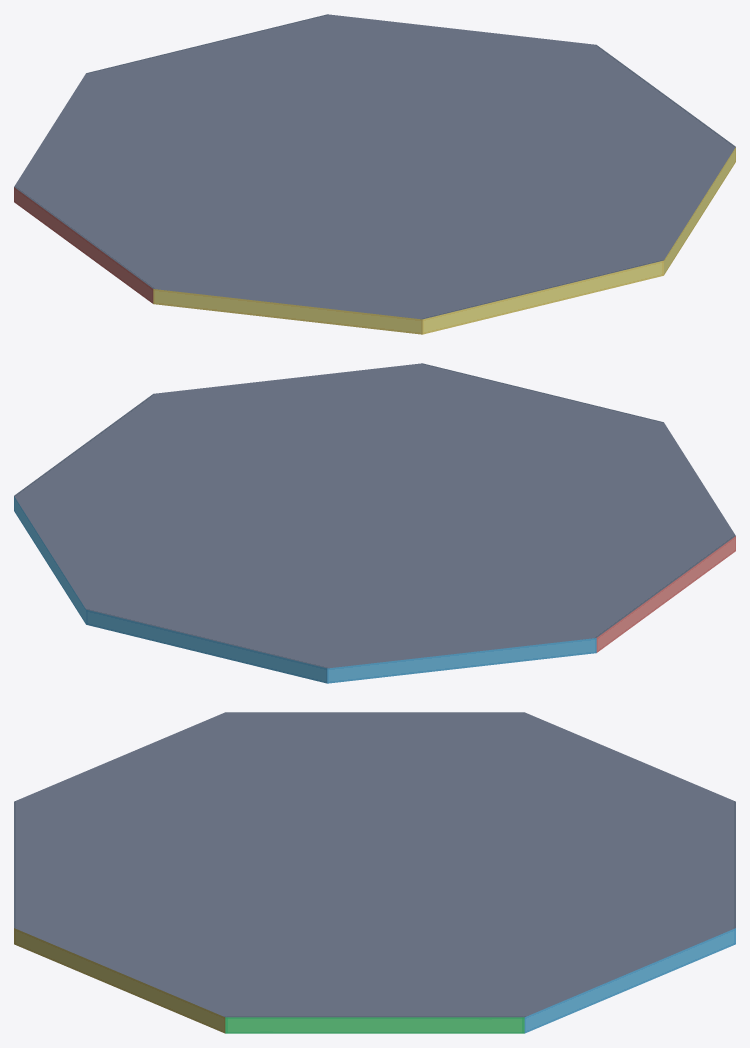
The model's file is bunkerFloor.gltf.
3 renders of one model, top to bottom at view 1: azimuth 30°, elevation 25°; view 2: azimuth 150°, elevation 25°; view 3: azimuth 270°, elevation 25°, orthographic. The views are drawn at different scales.
Parts seen in each view (by area): view 1: cylinder; view 2: cylinder; view 3: cylinder.
Part boxes in pixels (x1=…): cylinder: x1=14, y1=14, x2=735, y2=334; cylinder: x1=14, y1=363, x2=735, y2=683; cylinder: x1=14, y1=712, x2=735, y2=1033.
Bounding box in the file's own units: 20 × 0.5 × 20.
1 material, 1 textured.
